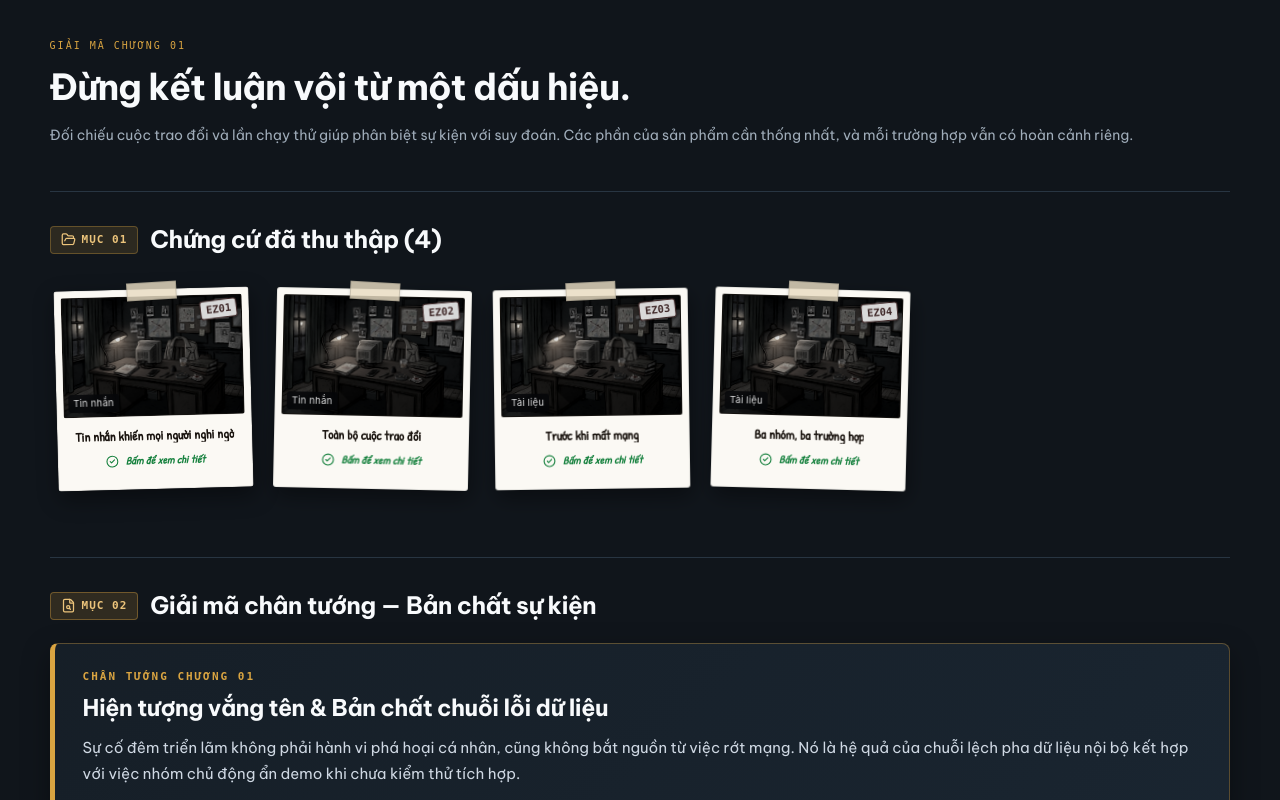
Debrief Screen Redesign › allows clicking an evidence card to open full raw document detail in modal
Find first evidence card button
What coordinates should you click on to do the following:
click the button titled "Bấm để xem chi tiết: EZ01 · Tin nhắn khiến mọi người nghi ng"
I would click on:
 (153, 389)
Its box is [53,287,253,492].
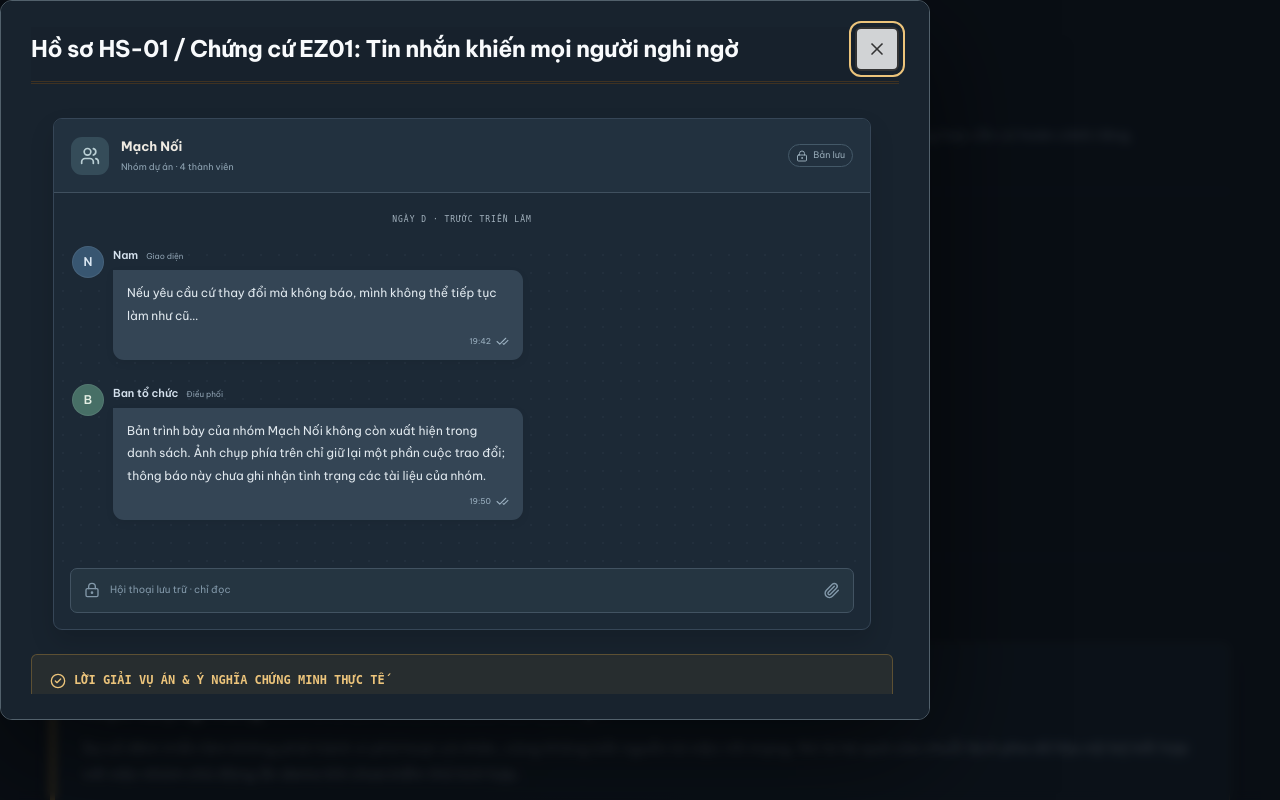
expect the dialog "Hồ sơ HS-01 / Chứng cứ EZ01: Tin nhắn khiến mọi người nghi n" is shown: met
expect the text "LỜI GIẢI VỤ ÁN & Ý NGHĨA CHỨNG MINH THỰC TẾ" is shown: met, box [74,671,385,691]
